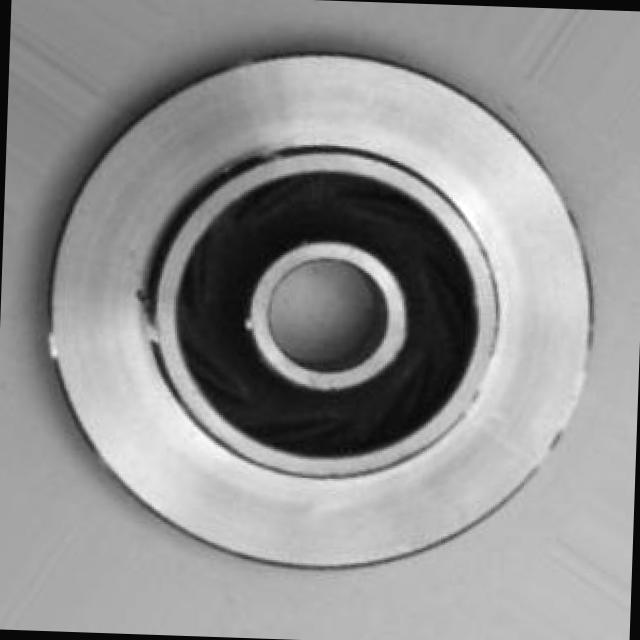Defect: (124, 282, 164, 347)
